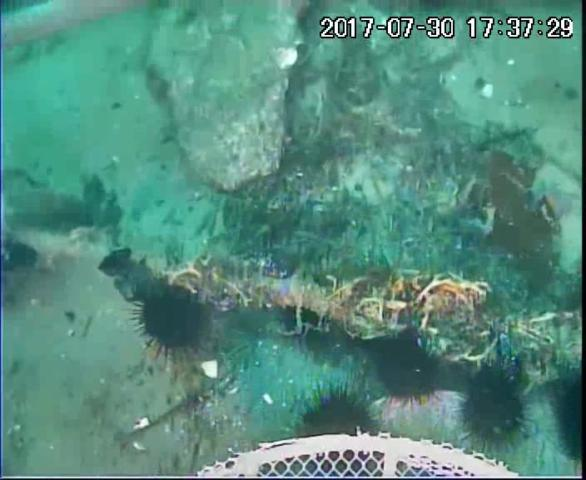echinus: (459, 368, 531, 451), (138, 285, 209, 358), (373, 339, 442, 411), (299, 383, 383, 439), (553, 373, 586, 466)
